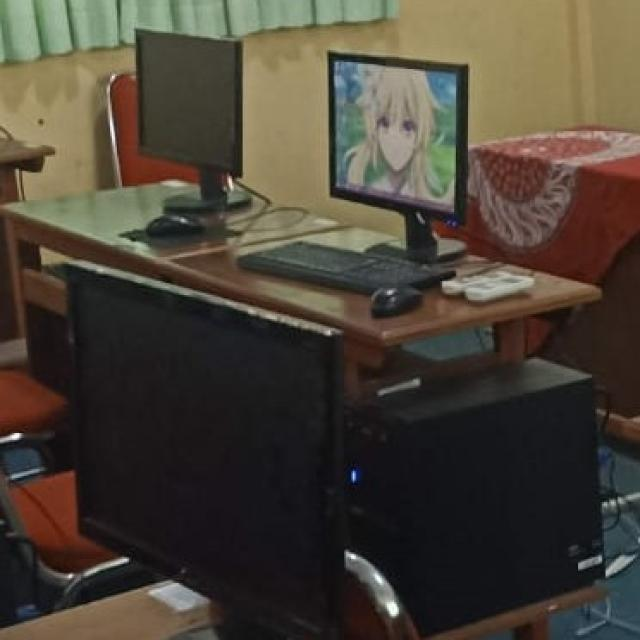offscreen: (138, 30, 241, 175)
onscreen: (331, 53, 468, 220)
